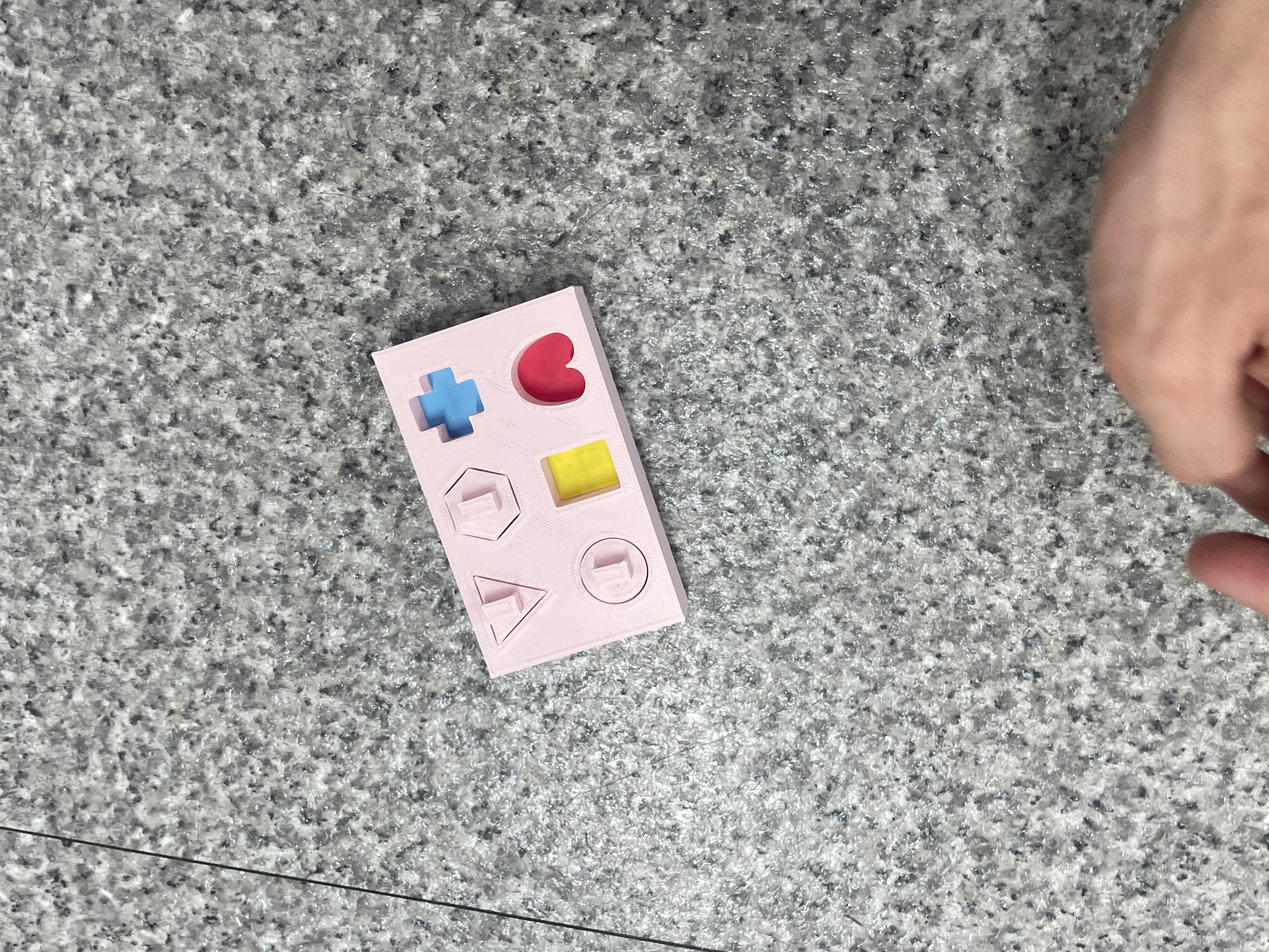unsolved: (370, 273, 703, 686)
